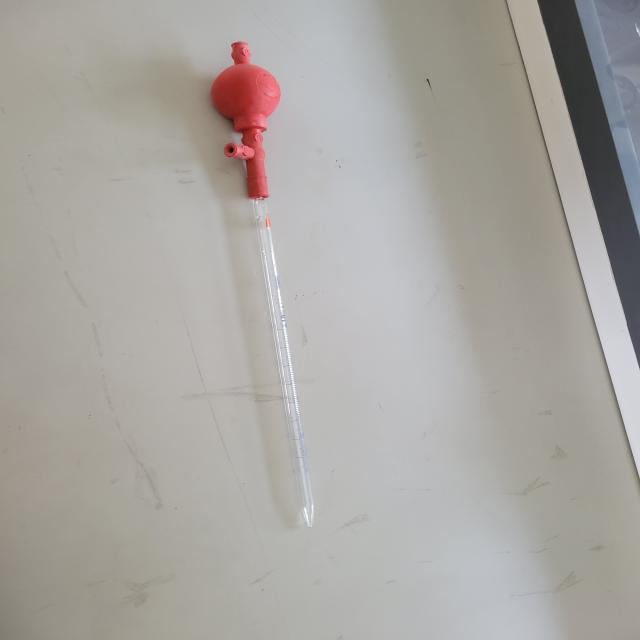Volumetric_Pipet: (182, 9, 360, 552)
